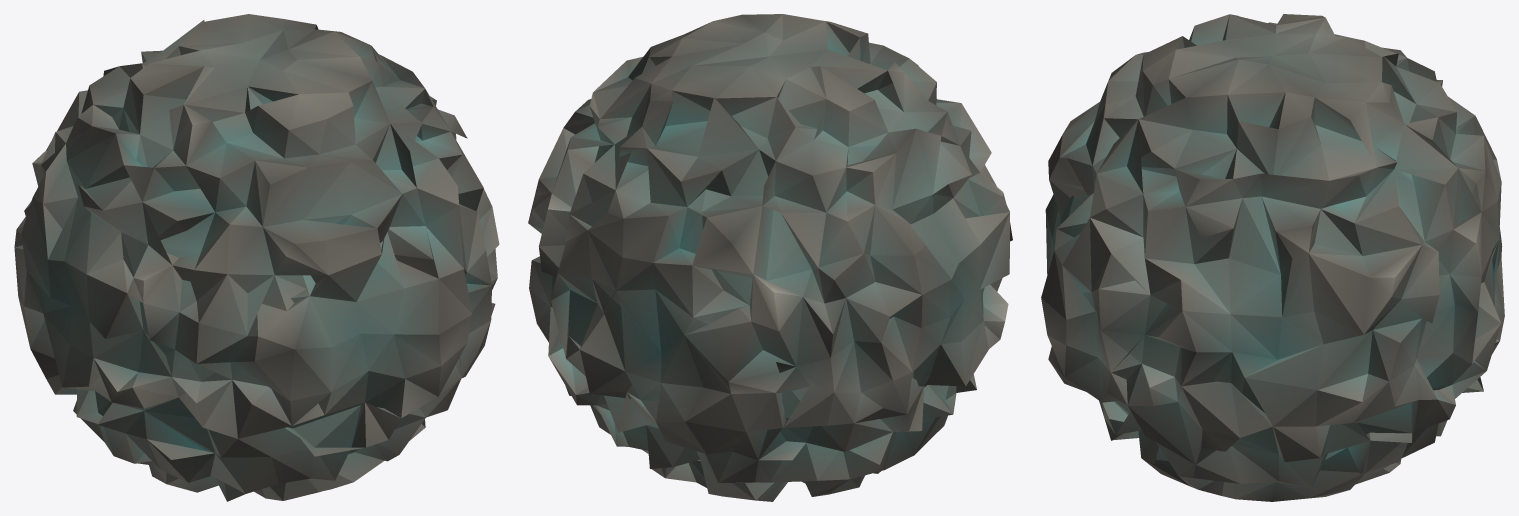
Rendered from cyan-artifact.gltf.
3 views of the same model, side by side, from view 1: azimuth 30°, elevation 25°; view 2: azimuth 150°, elevation 25°; view 3: azimuth 270°, elevation 25° (orthographic).
Parts seen in each view (by area): view 1: cyan-artifact; view 2: cyan-artifact; view 3: cyan-artifact.
Boxes of the visible parts, x1,y1,x2,y2 form: cyan-artifact: (14, 14, 499, 501); cyan-artifact: (528, 14, 1012, 501); cyan-artifact: (1041, 14, 1504, 501).
Bounding box in the file's own units: 0.0583 × 0.0583 × 0.0588.
